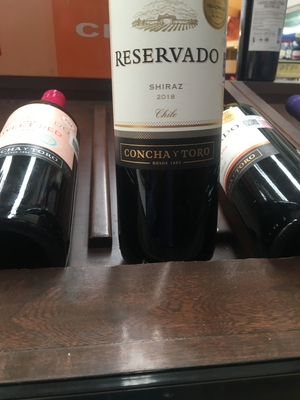reservado shiraz: (104, 2, 222, 269)
